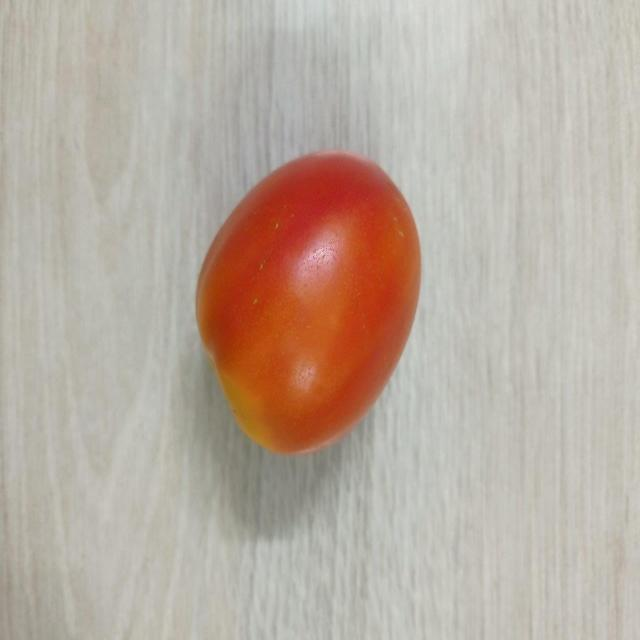Tomato: (192, 147, 426, 458)
